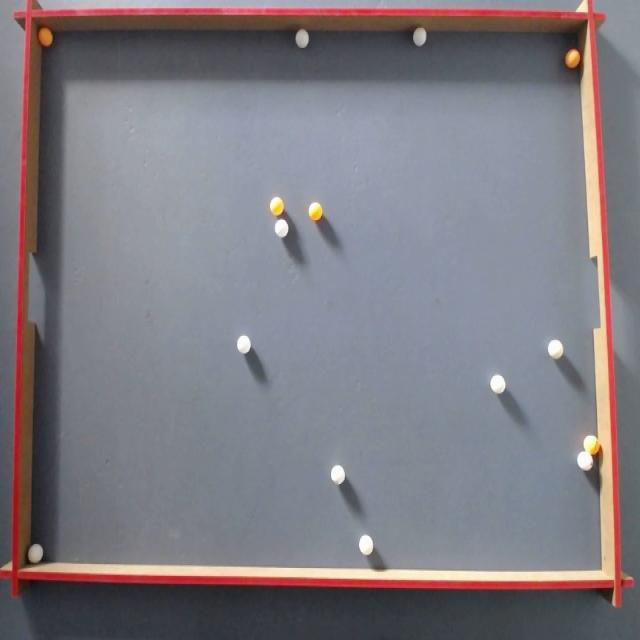orange_ball: (584, 435, 599, 455), (565, 49, 580, 68), (38, 27, 52, 46), (309, 202, 322, 220), (270, 197, 283, 215)
white_ball: (28, 543, 44, 564), (490, 374, 506, 394), (577, 451, 593, 471), (548, 339, 563, 358), (359, 535, 373, 555), (295, 29, 309, 48), (274, 220, 288, 238), (413, 27, 426, 46), (331, 465, 344, 484), (237, 335, 250, 354)
